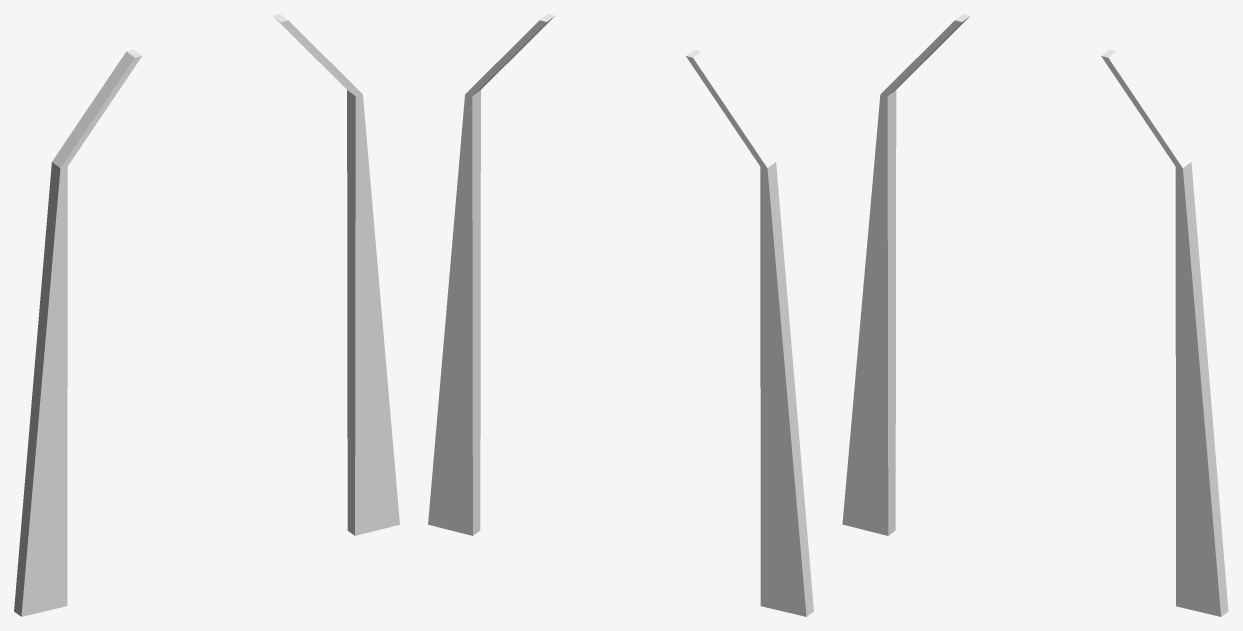
File: outsideLight.obj
3 renders of one model, left to right at view 1: azimuth 30°, elevation 25°; view 2: azimuth 150°, elevation 25°; view 3: azimuth 330°, elevation 25°, orthographic.
Parts seen in each view (by area): view 1: outsideLight; view 2: outsideLight; view 3: outsideLight.
Part boxes in pixels (<box>): outsideLight: <box>14,14,399,616</box>; outsideLight: <box>428,14,813,616</box>; outsideLight: <box>842,14,1228,616</box>.
Size of the model in its own units: 2.95 by 3.96 by 0.1161.
1 material, 1 textured.
